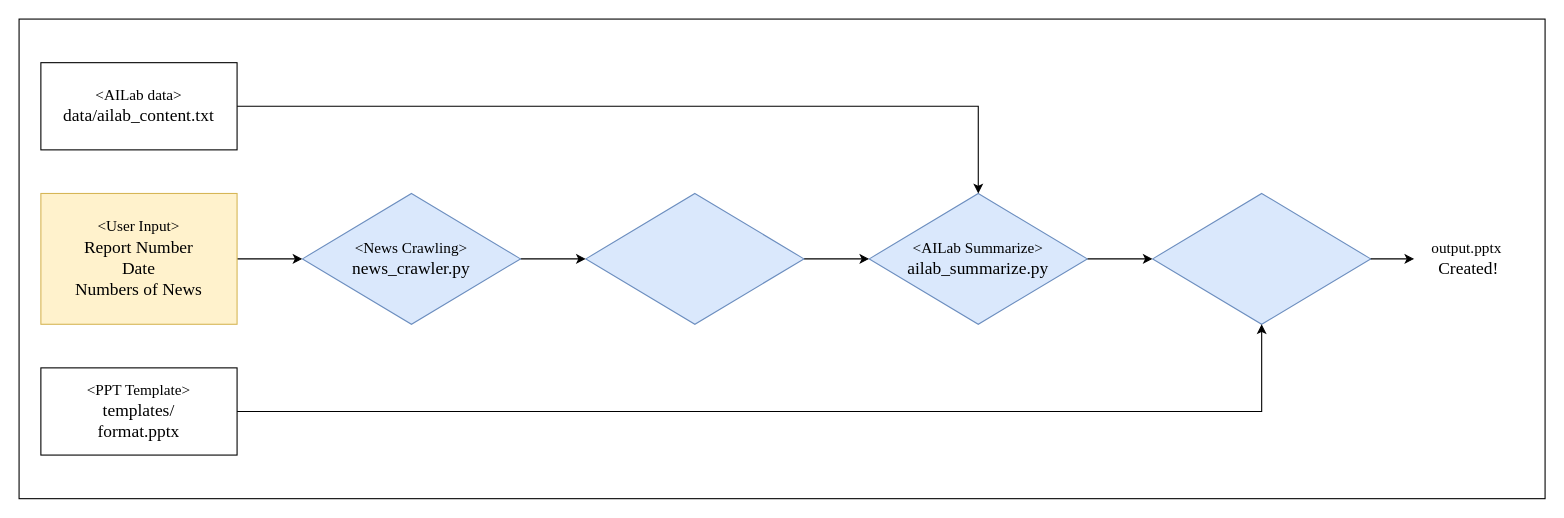
Some shapes in this 1564 by 518 pixel diagram are drawn without their labels. The shapes that lost their labels are listed below. From the top down, each one's centre as x and y in pixels, then its label:
At point (694, 258): "<News Summarize> news_summarize.py".
At point (1261, 258): "<Make_ppt> ppt_maker.py".
